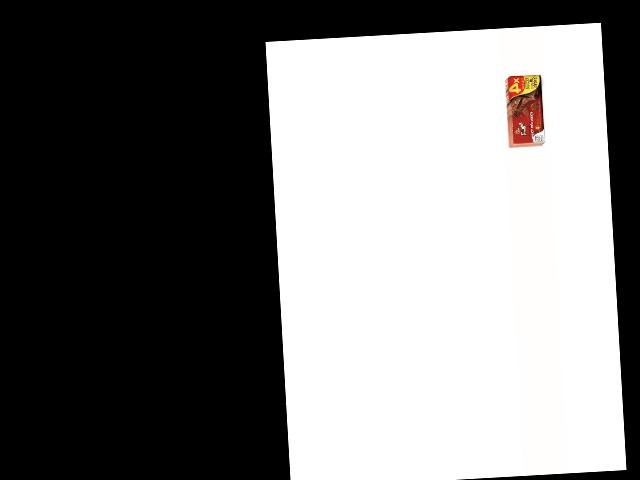chocolate: (505, 73, 547, 146)
